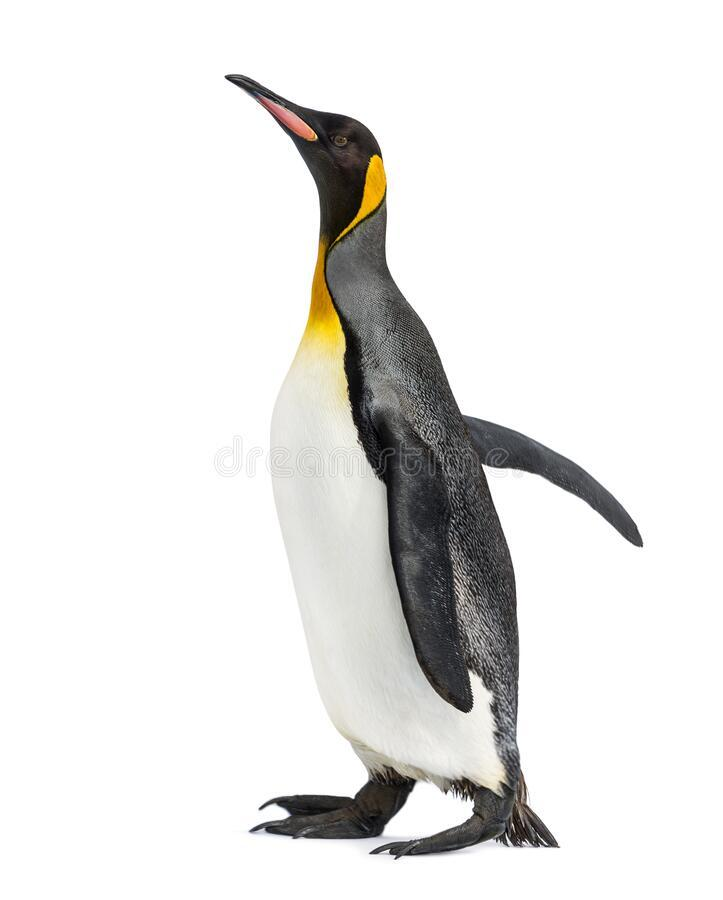king: (183, 48, 669, 871)
